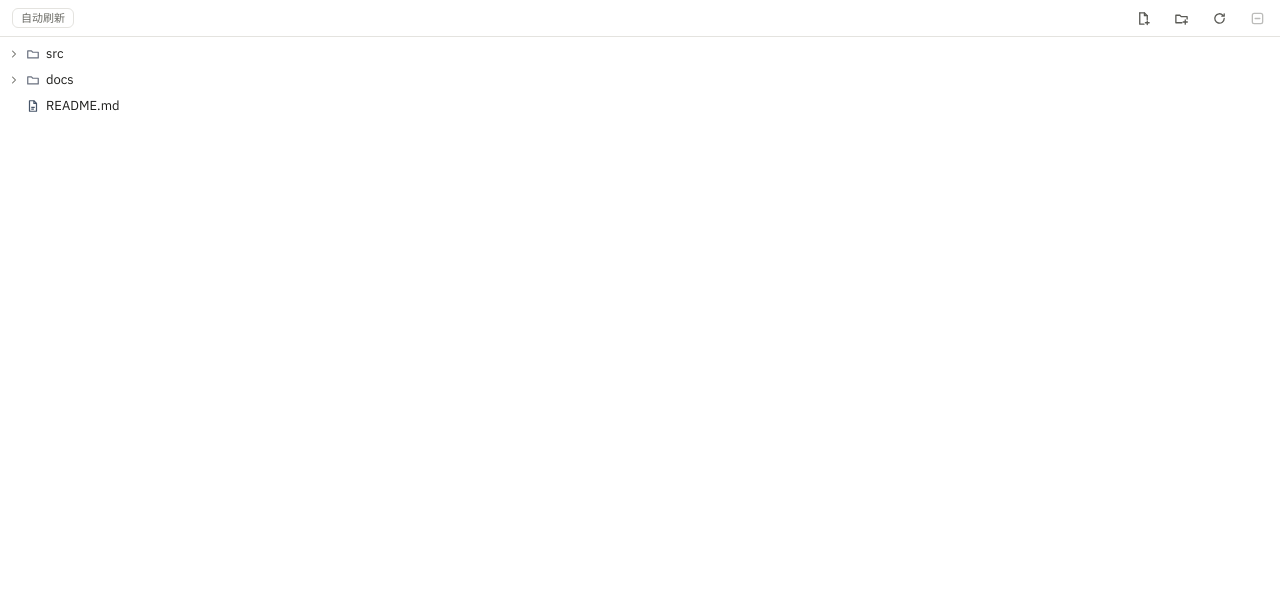
the viewer › renders the message for project_unavailable and no stale text
Click the list item "README.md".
click(73, 106)  # box left=26, top=97, right=120, bottom=114
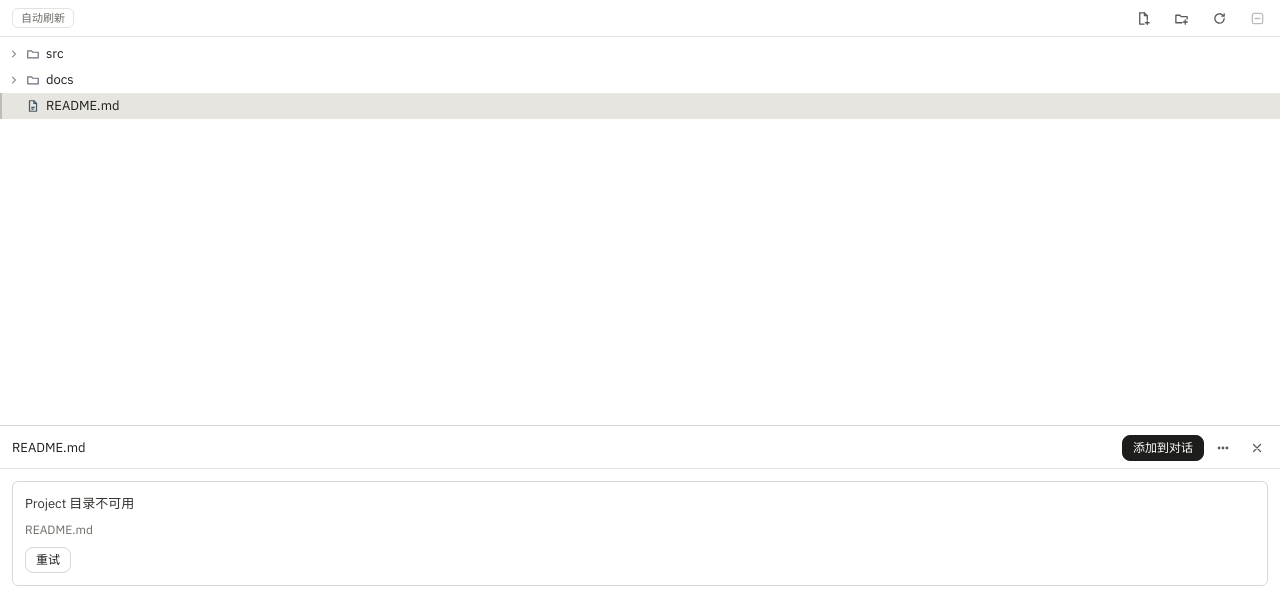
Check: the text "Project 目录不可用" is shown, box left=25, top=494, right=134, bottom=513
